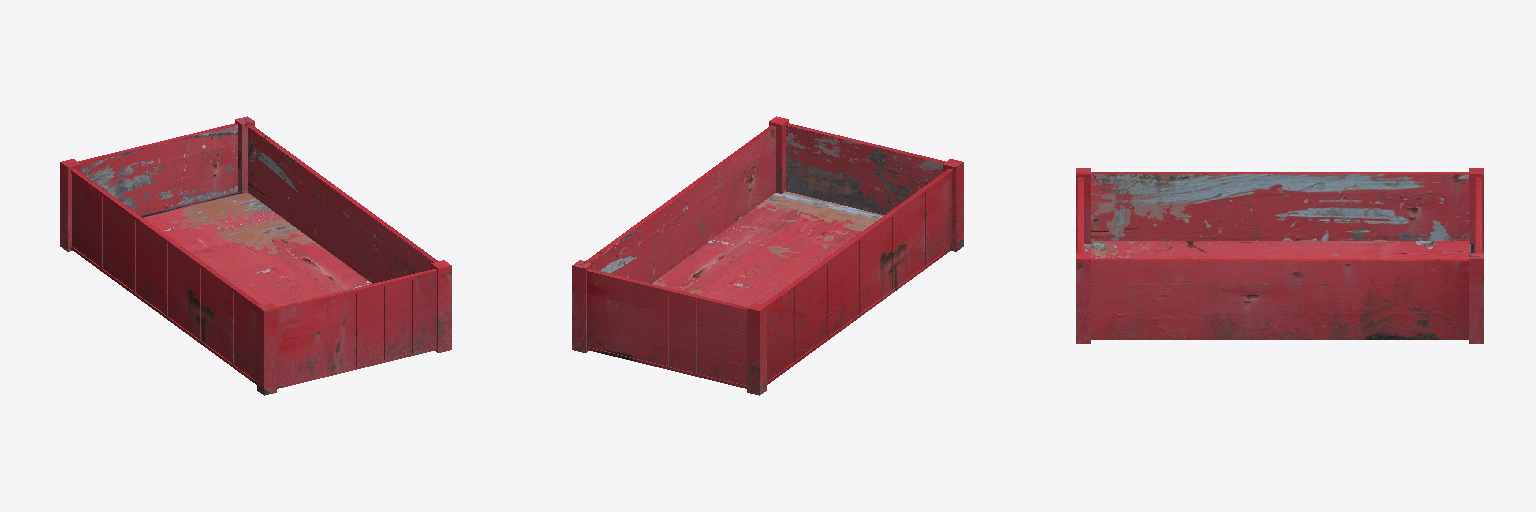
The picture shows the model from 3 angles: view 1: azimuth 30°, elevation 25°; view 2: azimuth 150°, elevation 25°; view 3: azimuth 270°, elevation 25°; orthographic projection.
Visible parts, largest first — view 1: Object_FlatBedSmall.jpg; view 2: Object_FlatBedSmall.jpg; view 3: Object_FlatBedSmall.jpg.
Part boxes in pixels (x1,y1,x2,y2): Object_FlatBedSmall.jpg: (60, 116, 451, 395); Object_FlatBedSmall.jpg: (572, 116, 963, 395); Object_FlatBedSmall.jpg: (1076, 168, 1483, 343).
Bounding box in the file's own units: 1.33 × 0.5716 × 2.5.
2 materials, 1 textured.